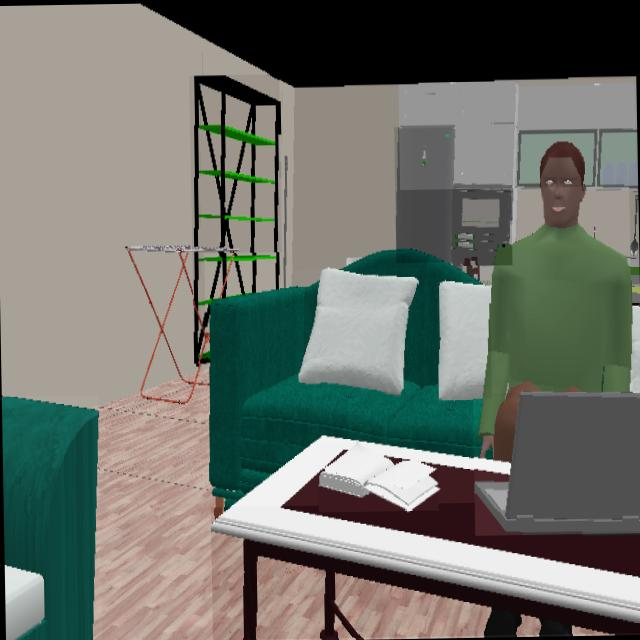book: (318, 443, 438, 510)
cabinet: (399, 79, 636, 187)
fridge: (396, 126, 455, 261)
laptop: (474, 393, 640, 533)
microwave: (452, 186, 511, 265)
person: (479, 143, 632, 461)
pillow: (298, 270, 417, 393), (439, 281, 490, 399)
shelf: (194, 75, 279, 363)
sofa: (209, 250, 482, 507), (2, 397, 98, 640)
table: (211, 437, 640, 639)
